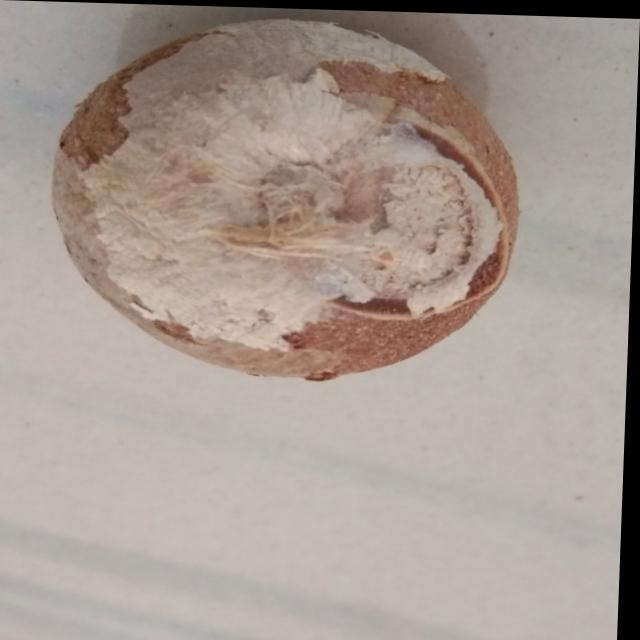good: (39, 1, 556, 403)
